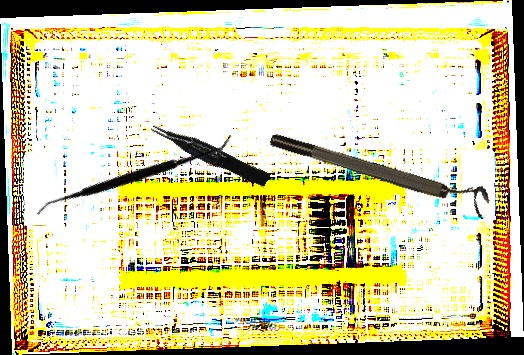Fixation Ring: (267, 119, 494, 220)
Spatula Surgical: (34, 69, 233, 280)
Tissue Forceps: (149, 114, 271, 193)
